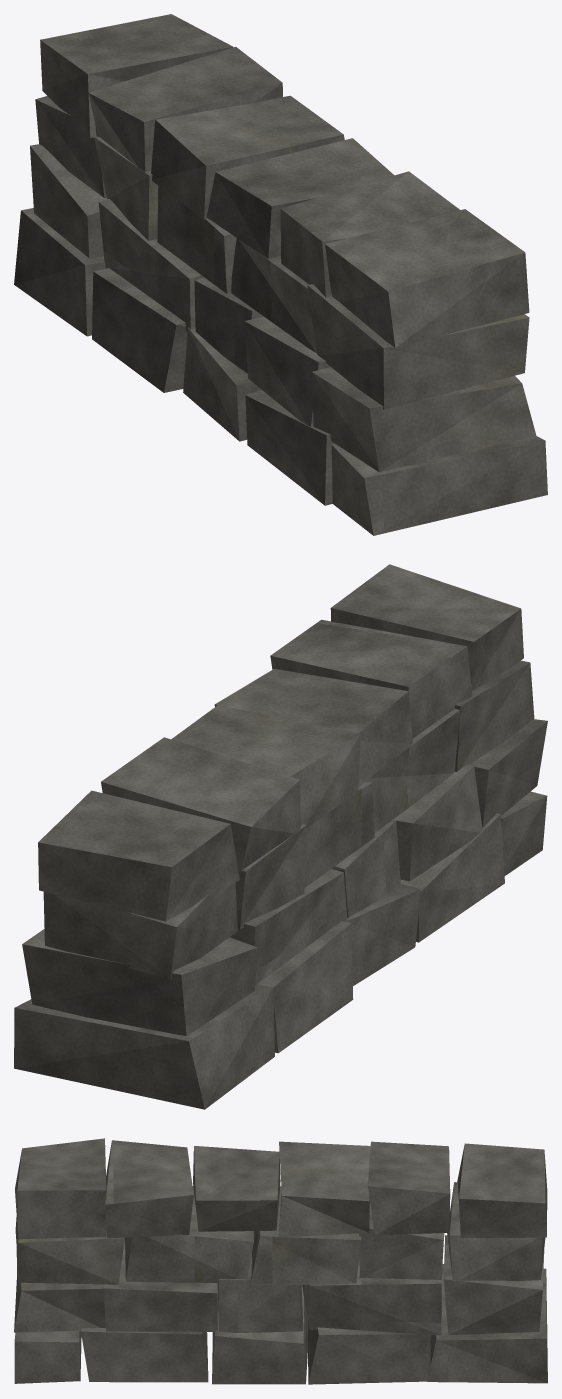
Rendered from VergeWall_A_LOD2.fbx.
3 renders of one model, top to bottom at view 1: azimuth 30°, elevation 25°; view 2: azimuth 150°, elevation 25°; view 3: azimuth 270°, elevation 25°, orthographic. The views are drawn at different scales.
Visible parts, largest first — view 1: VergeWall_A_LOD2; view 2: VergeWall_A_LOD2; view 3: VergeWall_A_LOD2.
Part boxes in pixels (left/top/right/bottom): VergeWall_A_LOD2: left=14, top=14, right=547, bottom=535; VergeWall_A_LOD2: left=14, top=564, right=547, bottom=1109; VergeWall_A_LOD2: left=14, top=1138, right=547, bottom=1384.
Bounding box in the file's own units: 0.7376 × 0.9344 × 2.42.
